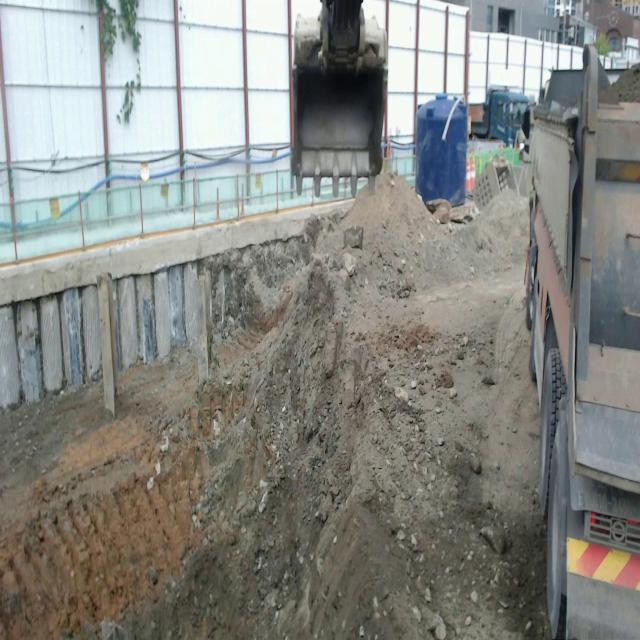red-sand: (0, 175, 545, 639)
